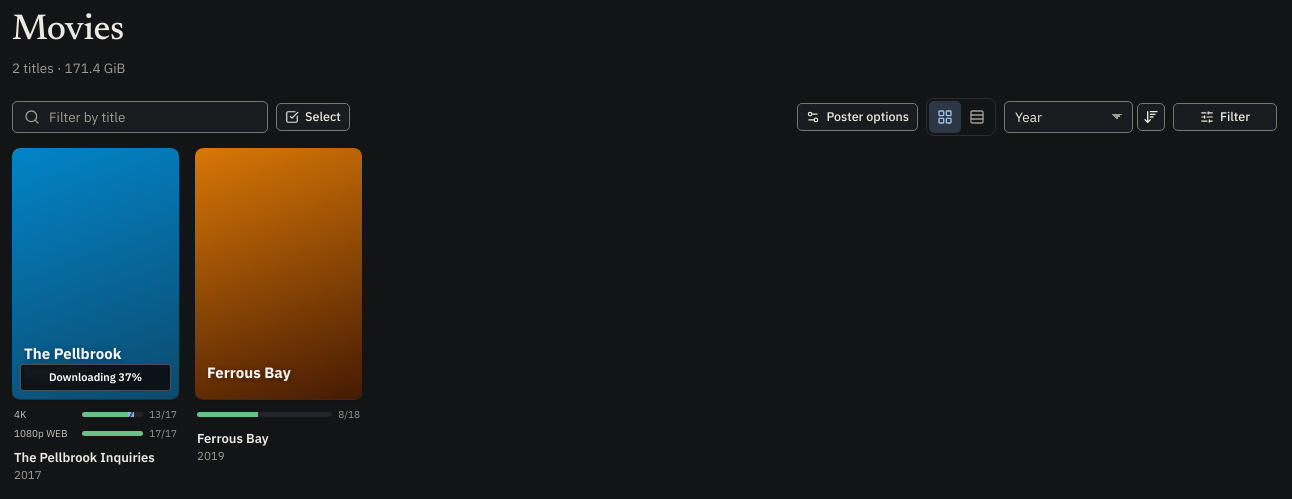
Scenario: Library table › opens the view the address asks for and puts a picked one in the address
Expected: the element with test id "poster-grid" is shown, [12, 148, 362, 482]
Click the radio button named "Table" at [977, 117], box [961, 101, 993, 133]
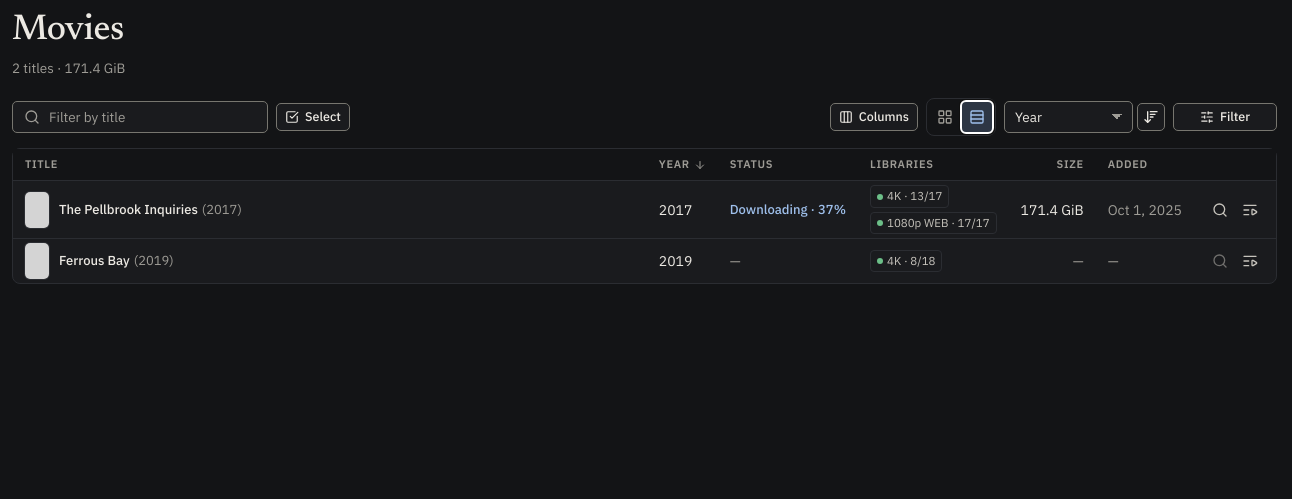
Now the table is shown, box [13, 149, 1276, 283]
